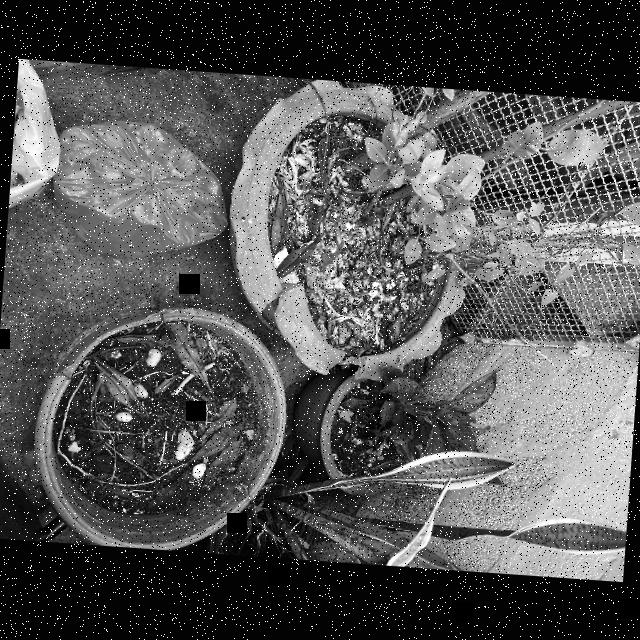plastic_bag: (48, 117, 233, 266), (7, 58, 67, 215)
